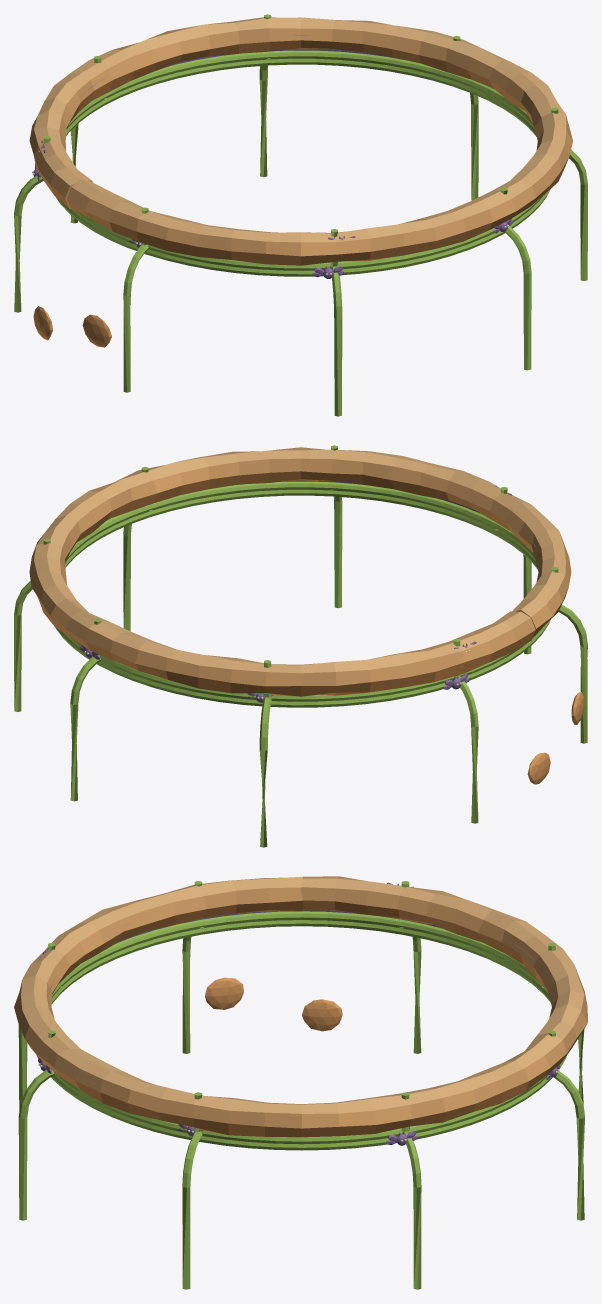
The model's file is goo_jar_trim_3_mid@haunted.fbx.
3 renders of one model, top to bottom at view 1: azimuth 30°, elevation 25°; view 2: azimuth 150°, elevation 25°; view 3: azimuth 270°, elevation 25°, orthographic. The views are drawn at different scales.
Visible parts, largest first — view 1: goo_jar_trim_3_mid; view 2: goo_jar_trim_3_mid; view 3: goo_jar_trim_3_mid.
Part boxes in pixels (left/top/right/bottom): goo_jar_trim_3_mid: left=14, top=14, right=587, bottom=416; goo_jar_trim_3_mid: left=14, top=445, right=587, bottom=847; goo_jar_trim_3_mid: left=14, top=876, right=587, bottom=1289.
Size of the model in its own units: 47.64 by 16.05 by 45.98.
